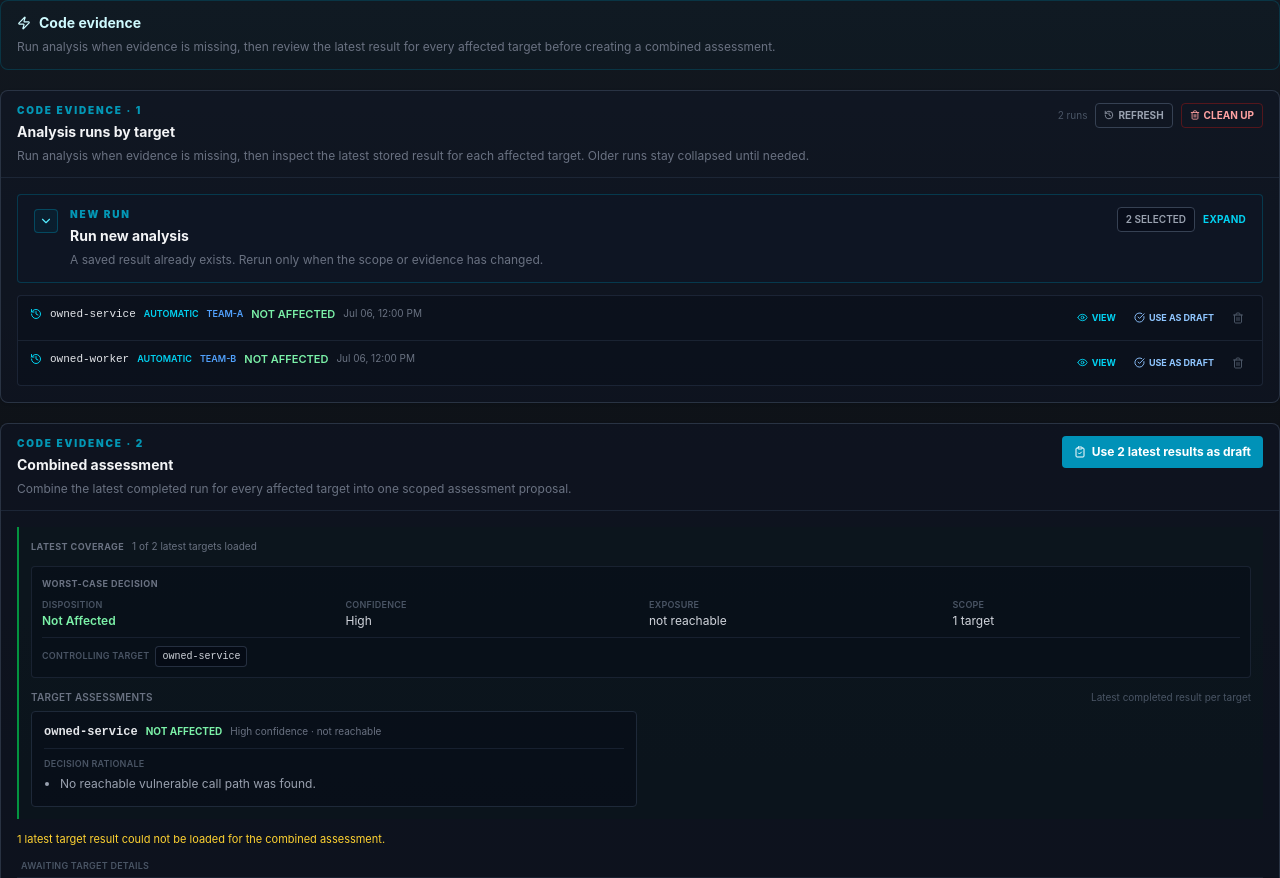
CodeAnalysisPanel › apply all saved results › reports a failure to load a saved result
This screenshot has width=1280, height=878.
Step 1. Click the button with test id "apply-all-analysis-results" → x=1162, y=452, box top-left (1062, 436), bottom-right (1263, 468)
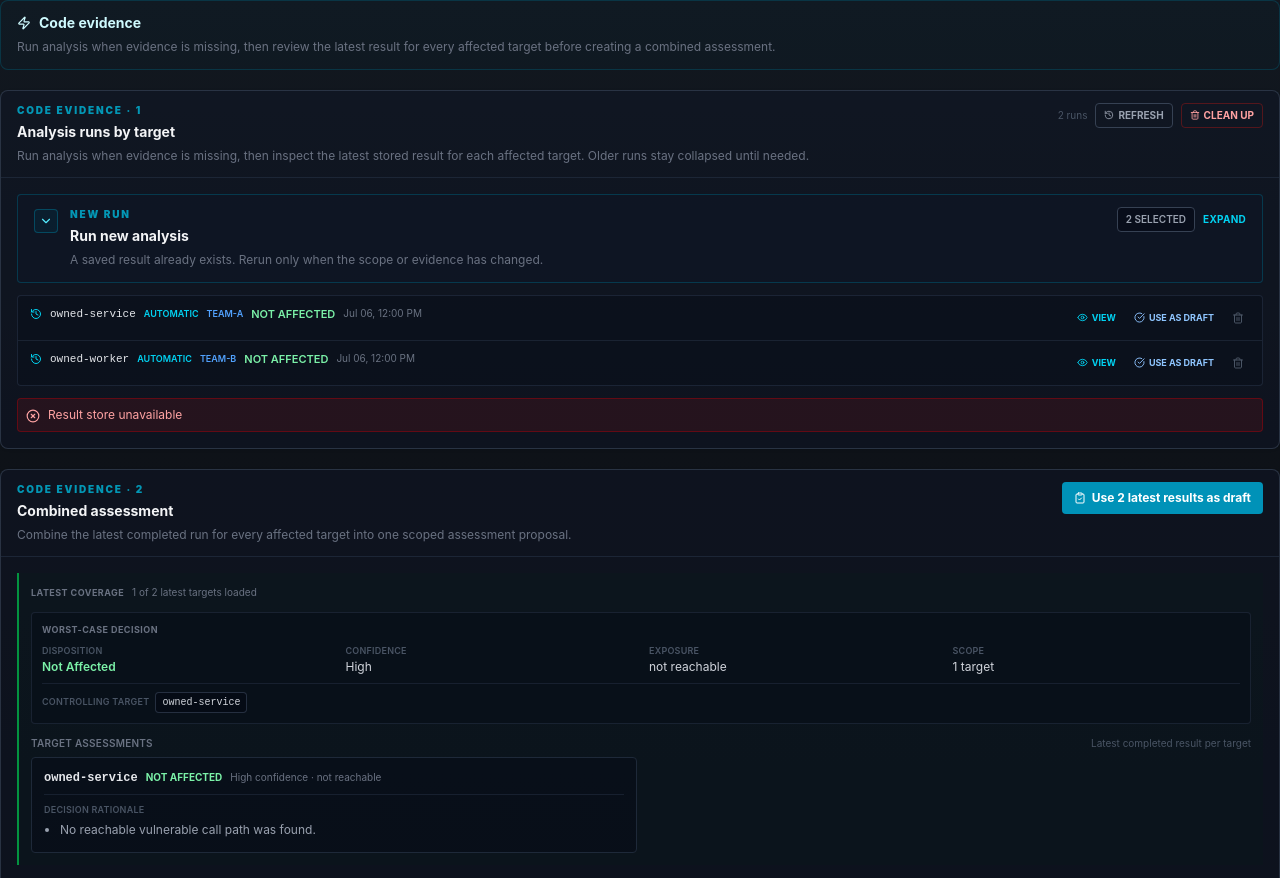
Now the text "Result store unavailable" is shown, box top-left (48, 406), bottom-right (182, 422)
